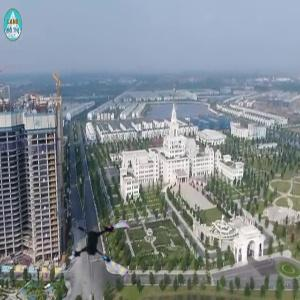drone: (68, 210, 141, 283)
